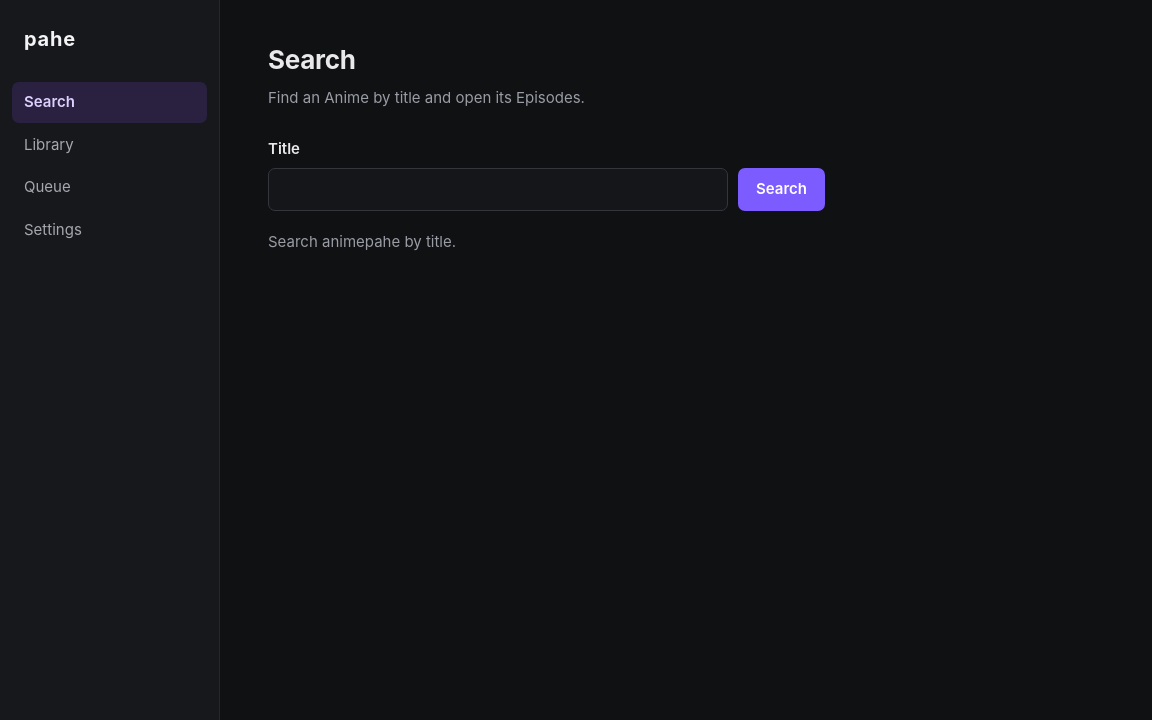
Test: app shell › switches to the queue view
What coordinates should you click on to do the following:
click the button "Queue"
I would click on:
 (110, 187)
Its box is [12,167,207,208].
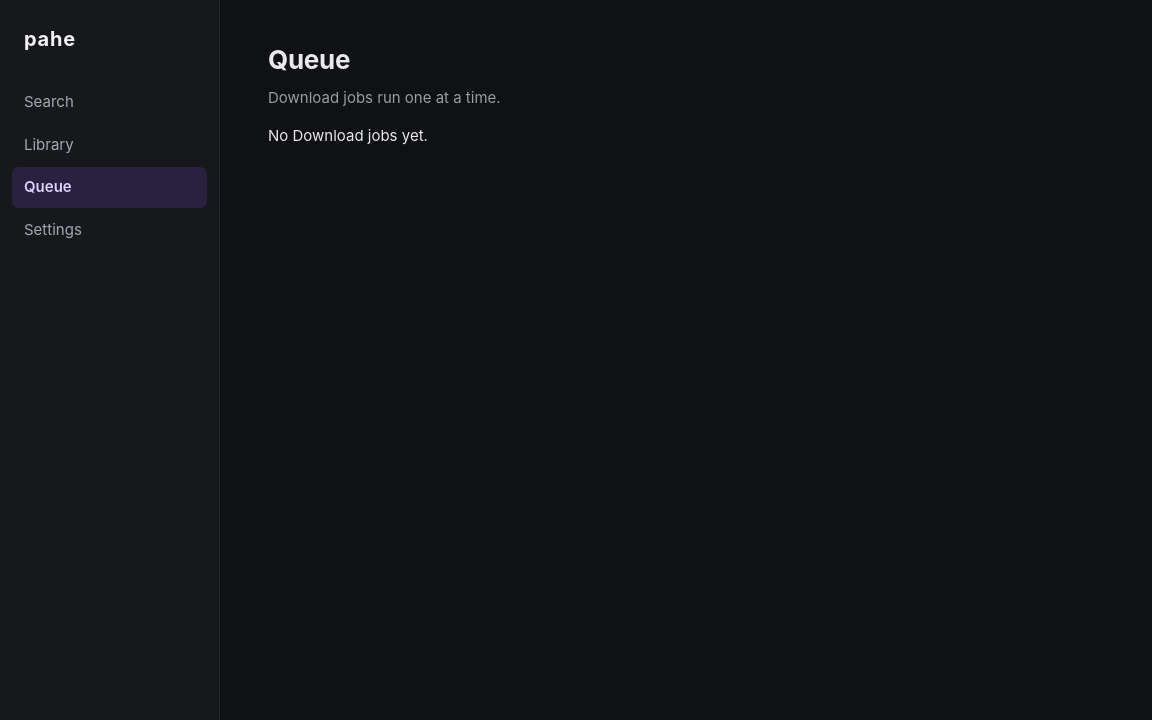
Expected: the heading "Queue" is shown, [268,44,350,75]
Expected: the text "No Download jobs yet." is shown, [268,126,428,144]
